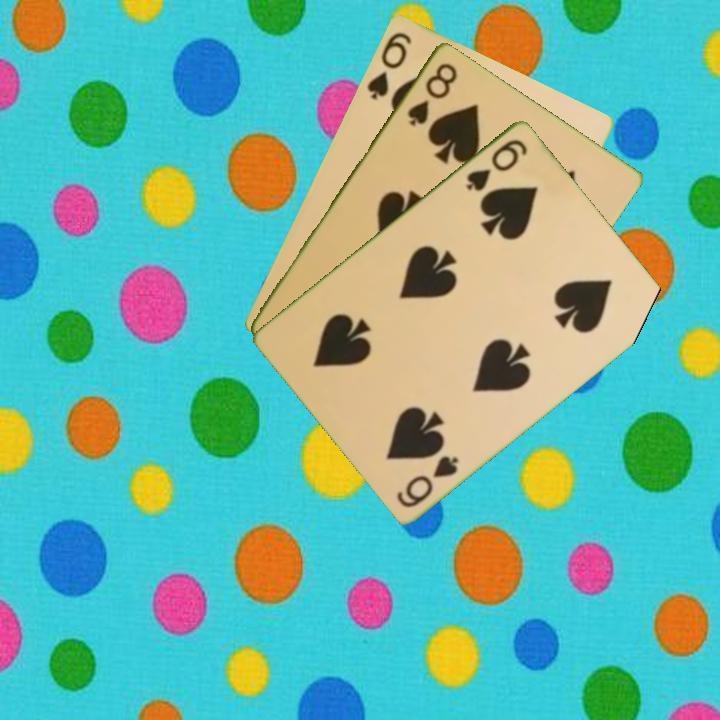6s: (393, 451, 462, 510), (462, 135, 530, 194), (363, 27, 414, 102)
8s: (403, 58, 461, 129)
